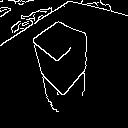cube: (28, 18, 98, 98)
